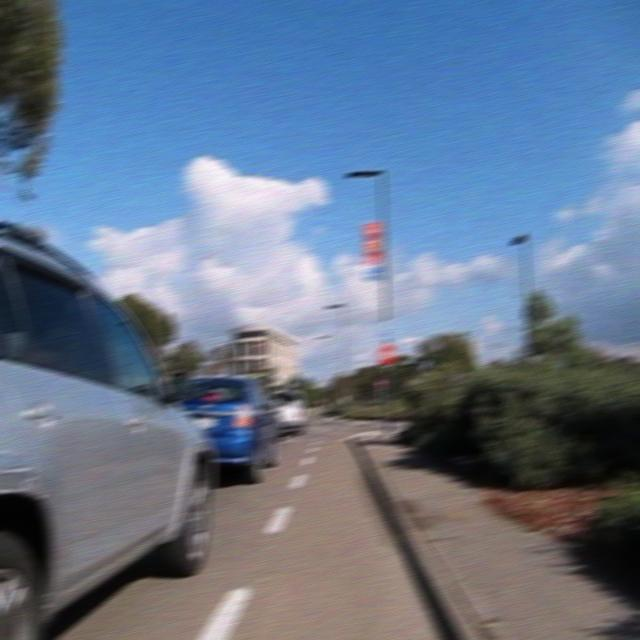stop_sign: (375, 343, 397, 368)
